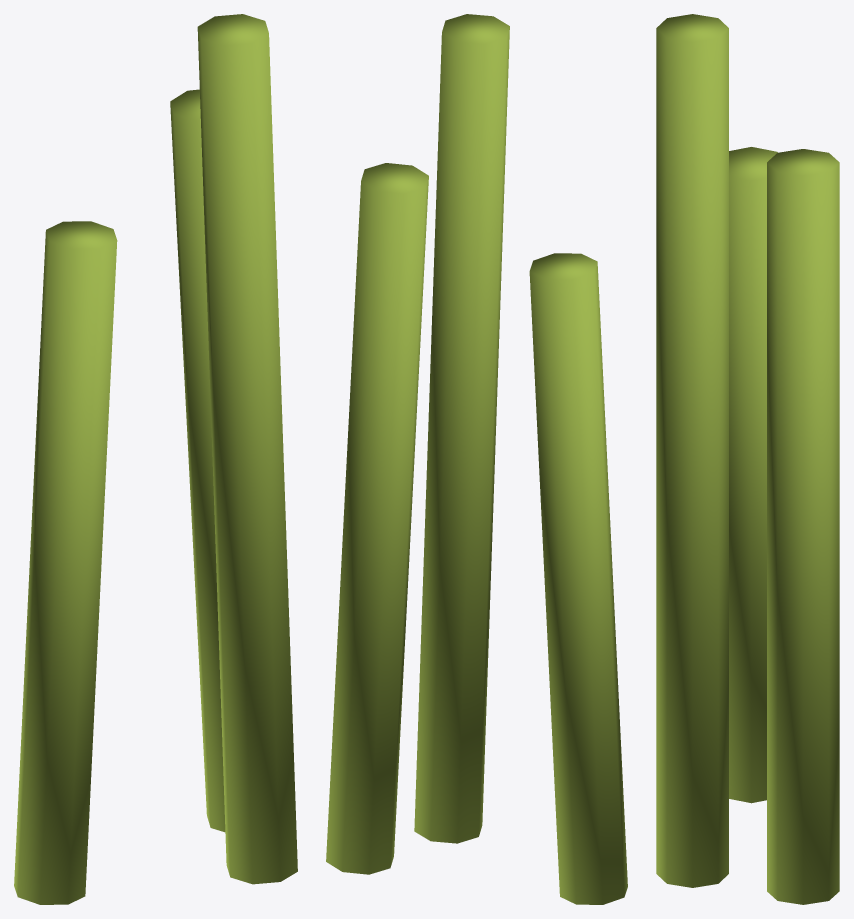
The model's file is prop_tiang_perahu.glb.
3 views of the same model, side by side, from view 1: azimuth 30°, elevation 25°; view 2: azimuth 150°, elevation 25°; view 3: azimuth 270°, elevation 25° (orthographic). The views are drawn at different scales.
Visible parts, largest first — view 1: tiang_perahu; view 2: tiang_perahu; view 3: tiang_perahu.
Part boxes in pixels (left/top/right/bottom): tiang_perahu: left=14, top=14, right=297, bottom=904; tiang_perahu: left=326, top=14, right=627, bottom=904; tiang_perahu: left=656, top=14, right=839, bottom=904.
Size of the model in its own units: 0.7076 by 2.03 by 0.4033.
